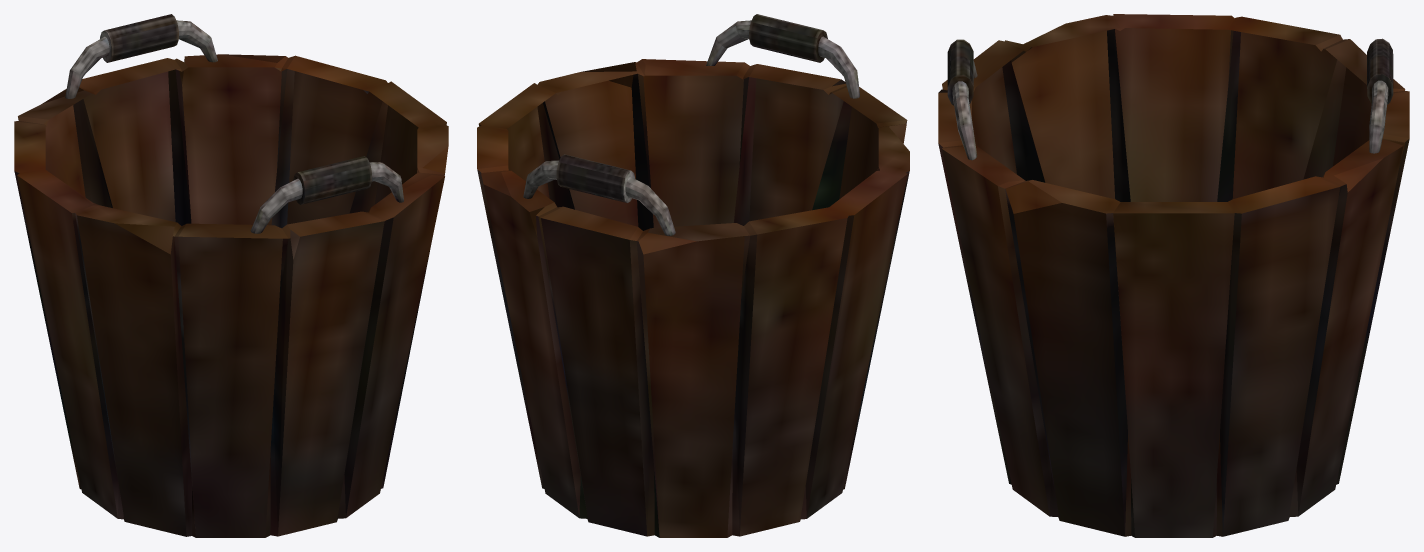
File: water basin.fbx
The picture shows the model from 3 angles, left to right: view 1: azimuth 30°, elevation 25°; view 2: azimuth 150°, elevation 25°; view 3: azimuth 270°, elevation 25°; orthographic projection. The views are drawn at different scales.
Parts seen in each view (by area): view 1: water basin; view 2: water basin; view 3: water basin.
Boxes of the visible parts, x1=… form: water basin: x1=14, y1=14, x2=448, y2=537; water basin: x1=477, y1=14, x2=909, y2=537; water basin: x1=938, y1=14, x2=1409, y2=537.
Bounding box in the file's own units: 362 × 351 × 363.
